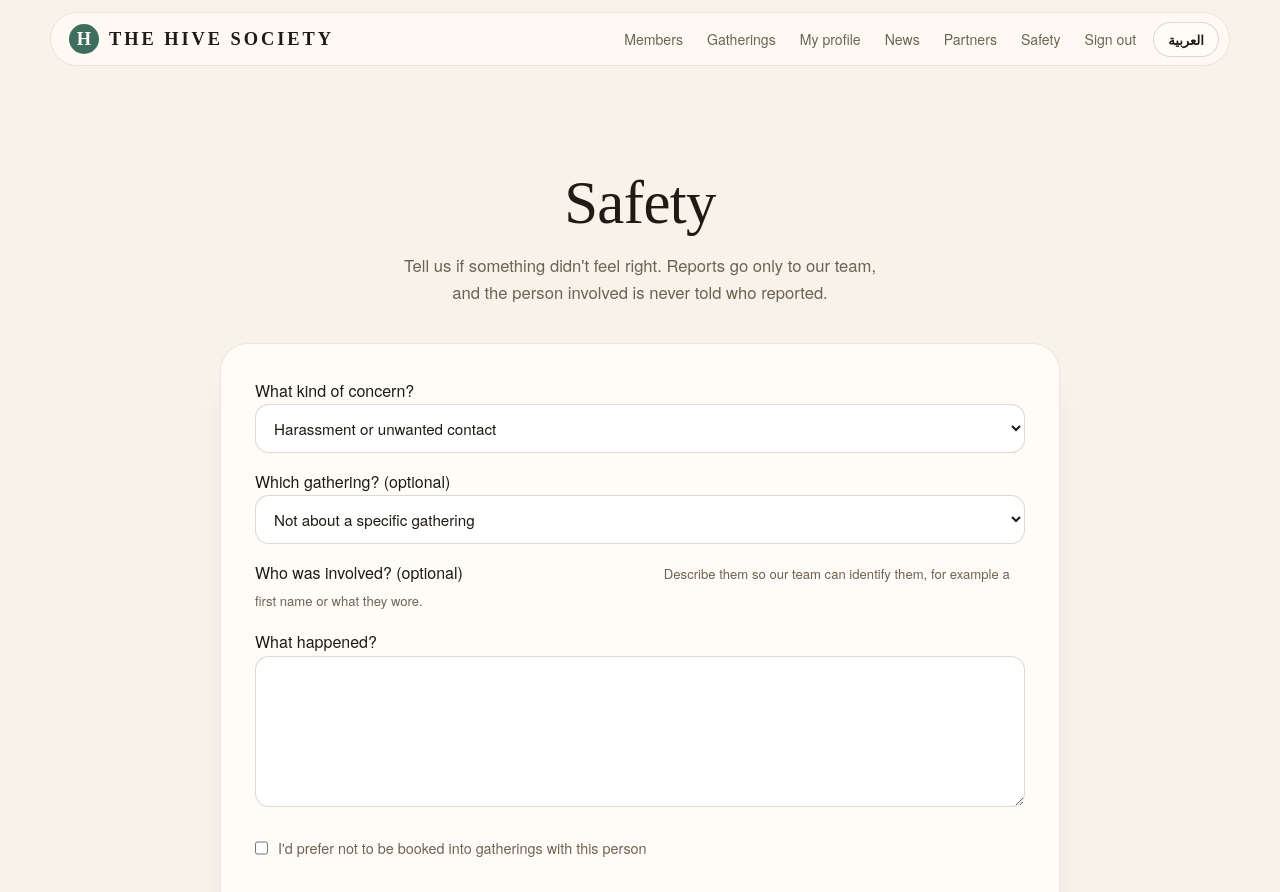
Scenario: safety screen (admin-mediated, privacy-preserving) › never asks for a member reference and submits a description instead
Select "Majlis · 2031-01-01" in the dropdown labelled "Which gathering? (optional)": (640, 520) [255,495,1025,544]
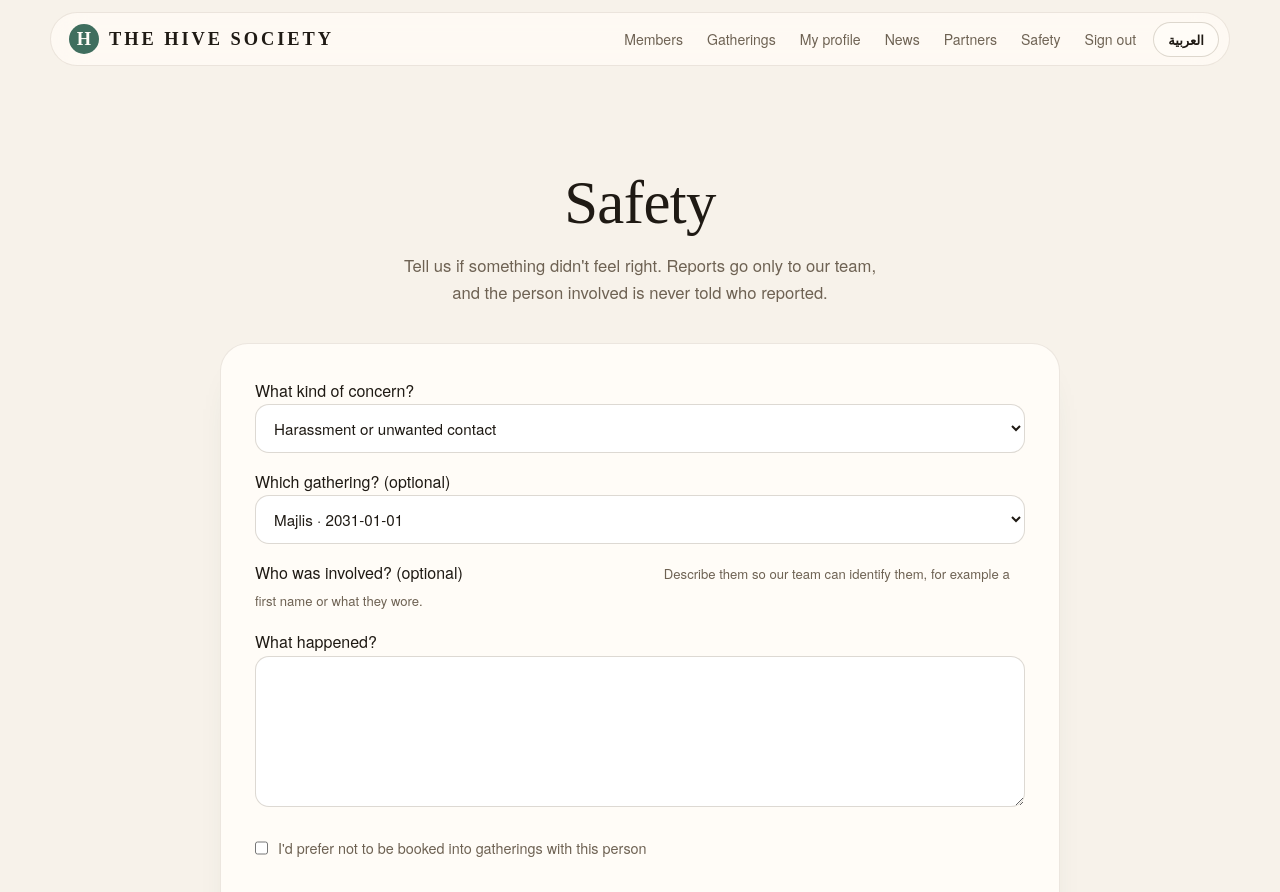
In the field labelled "Who was involved": (563, 574) [463,560,664,587], type "woman in the green scarf"
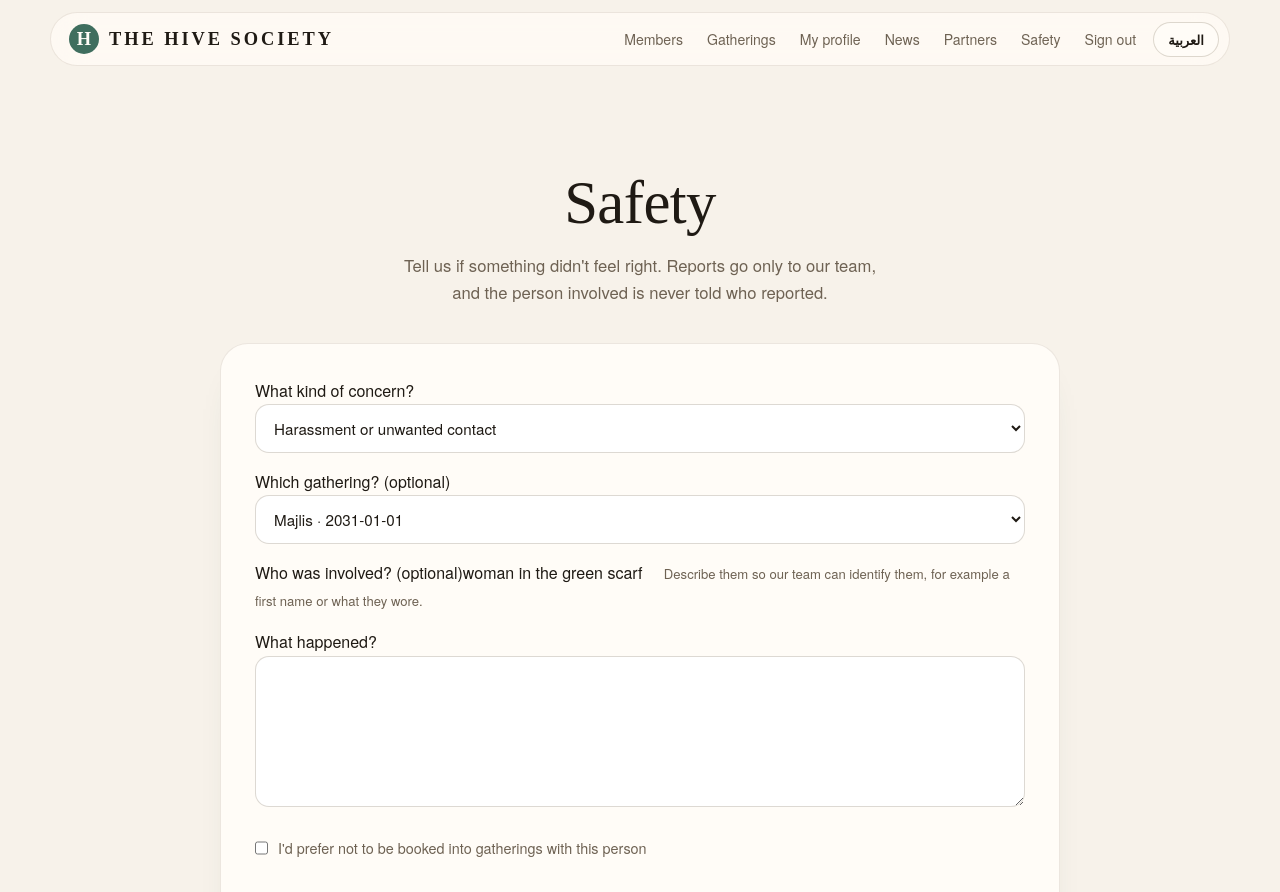
In the text box labelled "What happened?": (640, 731) [255,656,1025,807], type "Repeated unwanted comments."
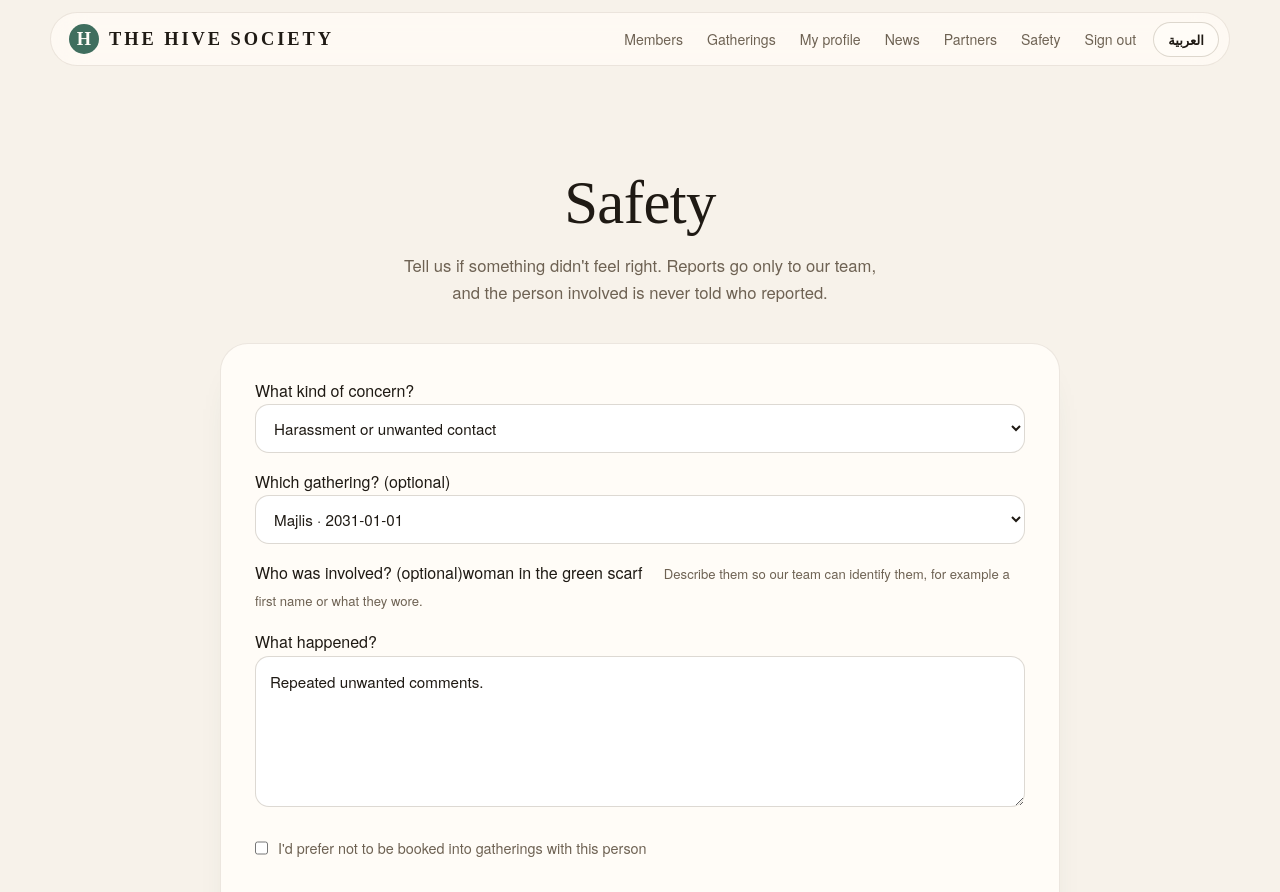
Click the checkbox labelled "I'd prefer not to be booked into gatherings with this person": click(262, 848) [255,840,268,856]
(page scrolled)
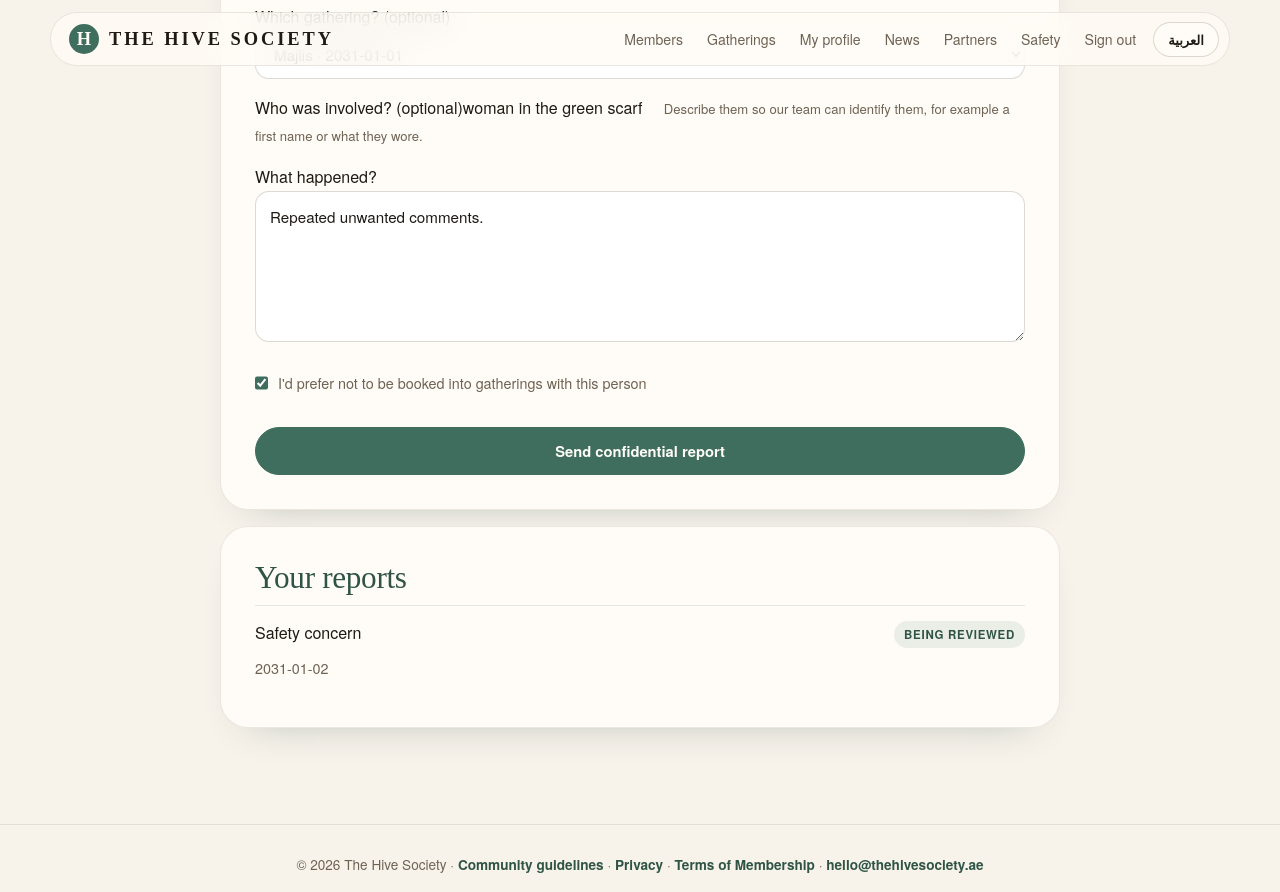
Click the button "Send confidential report": click(640, 451) [255,427,1025,475]
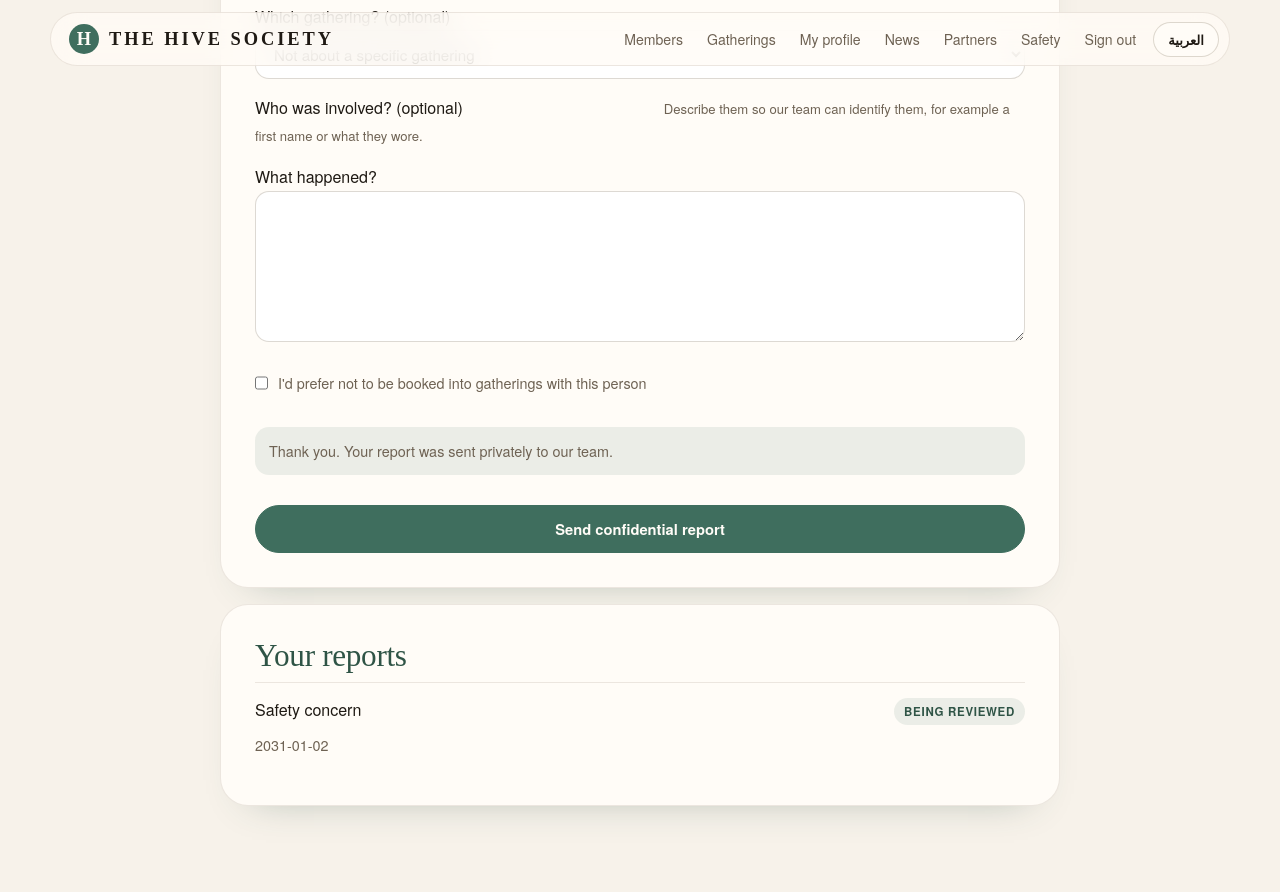
Expected: the text "Thank you. Your report was sent privately to our team." is shown, [255,427,1025,475]
